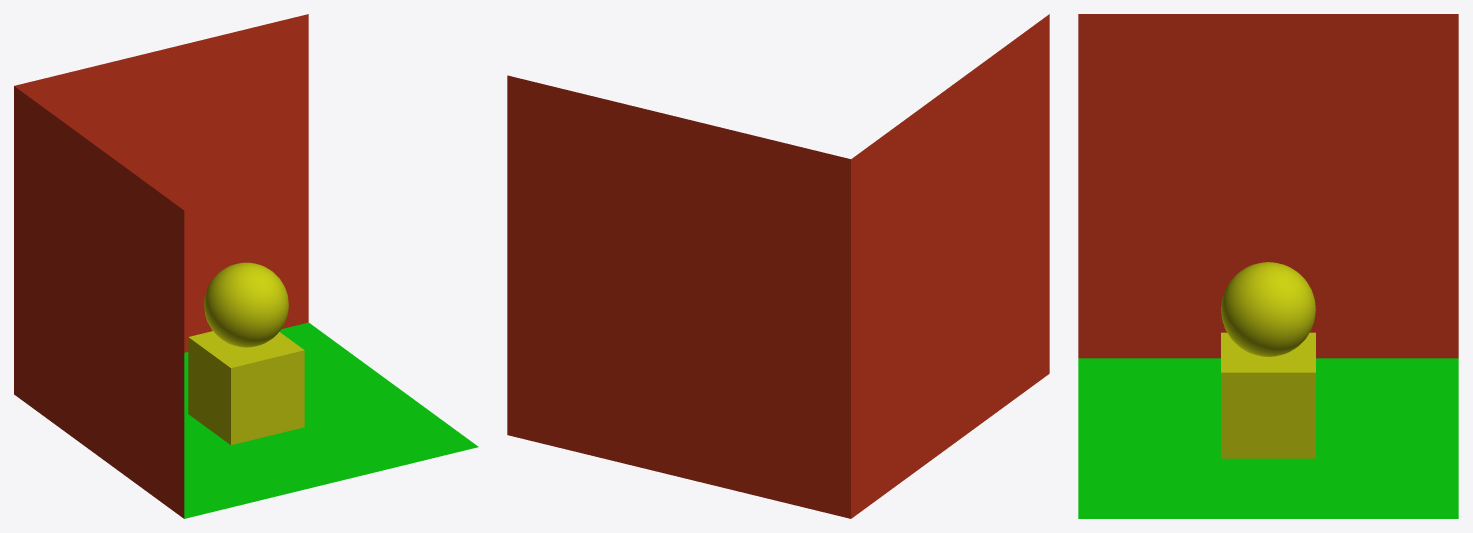
The model's file is lighting-scene.obj.
The picture shows the model from 3 angles, left to right: view 1: azimuth 30°, elevation 25°; view 2: azimuth 150°, elevation 25°; view 3: azimuth 270°, elevation 25°; orthographic projection. The views are drawn at different scales.
Parts seen in each view (by area): view 1: Plane, Cube, Sphere; view 2: Plane; view 3: Plane, Cube, Sphere.
Boxes of the visible parts, x1=… form: Plane: x1=14, y1=14, x2=478, y2=518; Cube: x1=188, y1=331, x2=304, y2=445; Sphere: x1=204, y1=262, x2=288, y2=347; Plane: x1=507, y1=14, x2=1049, y2=518; Plane: x1=1078, y1=14, x2=1458, y2=518; Cube: x1=1221, y1=332, x2=1315, y2=458; Sphere: x1=1221, y1=262, x2=1315, y2=356.
Bounding box in the file's own units: 8 × 8 × 8.
